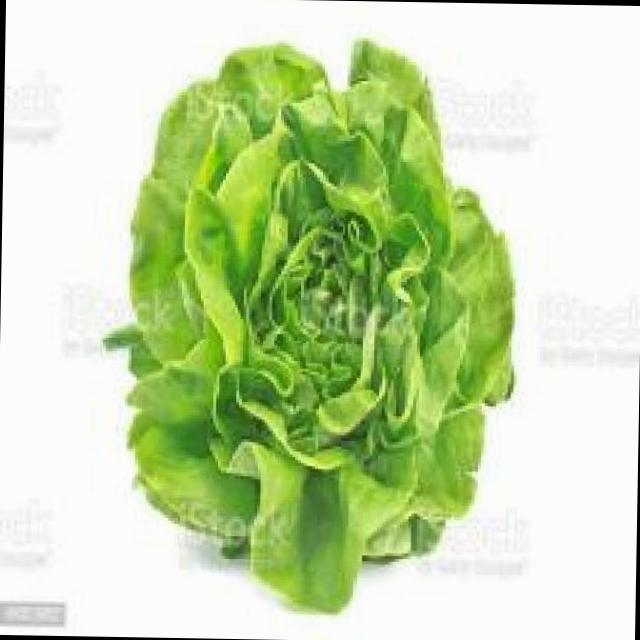Lettuce-Ready-to-Harvest: (100, 39, 516, 617)
